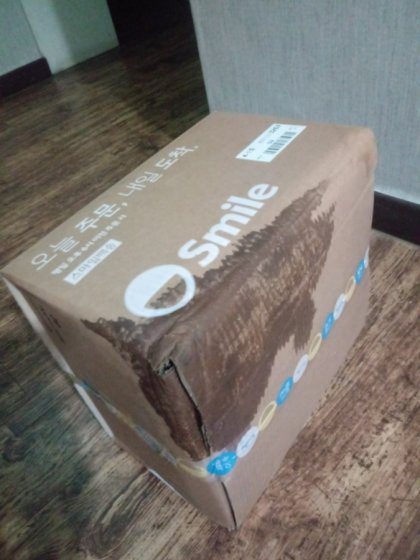damaged package: (92, 179, 328, 464)
